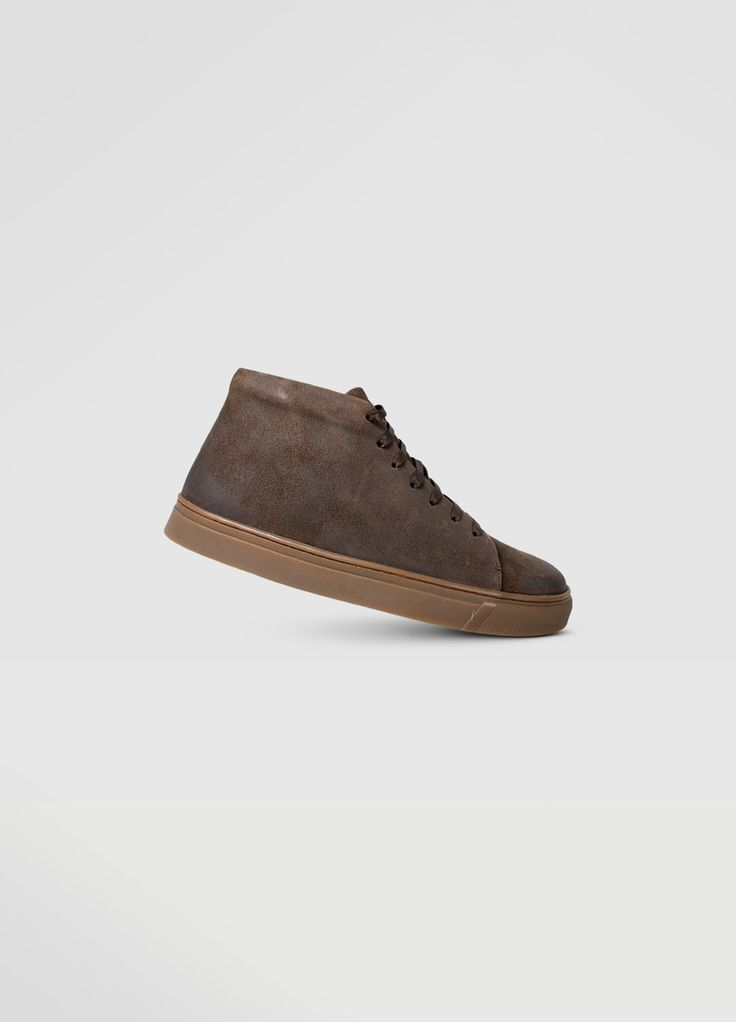gamuza: (182, 367, 503, 596)
